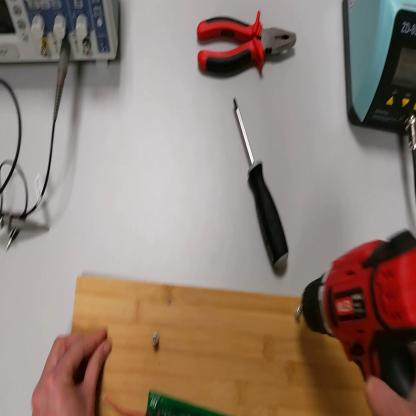electric screwdriver: (298, 229, 416, 393)
hand: (32, 327, 115, 416), (366, 372, 416, 415)
high voltage board: (148, 393, 219, 416)
oscilloscope: (2, 3, 121, 76)
oscilloscope probe tip: (1, 208, 51, 234)
pliers: (198, 12, 304, 83)
screwdriver-: (233, 97, 289, 271)
welder station: (343, 2, 415, 132)
working area: (70, 273, 370, 416)
